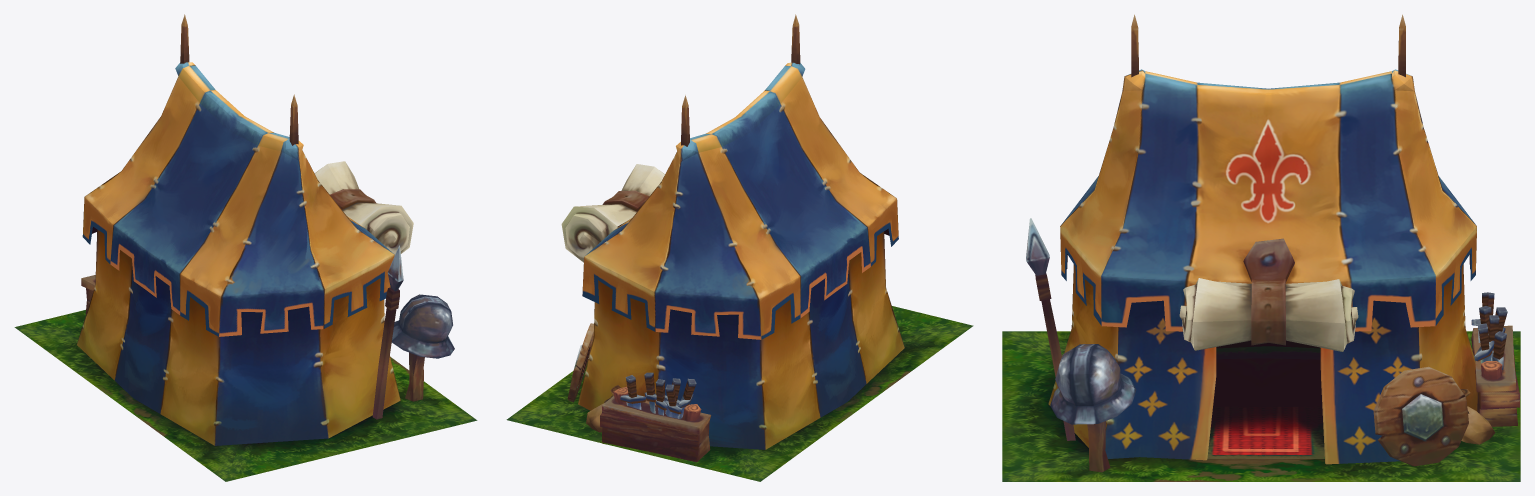
File: trainingYard.glb
The picture shows the model from 3 angles, left to right: view 1: azimuth 30°, elevation 25°; view 2: azimuth 150°, elevation 25°; view 3: azimuth 270°, elevation 25°; orthographic projection. The views are drawn at different scales.
Parts seen in each view (by area): view 1: Object_2; view 2: Object_2; view 3: Object_2.
Part boxes in pixels (<box>): Object_2: <box>14,14,477,481</box>; Object_2: <box>506,14,973,481</box>; Object_2: <box>1002,14,1520,481</box>.
Bounding box in the file's own units: 3.78 × 4.32 × 5.15.
1 material, 1 textured.
